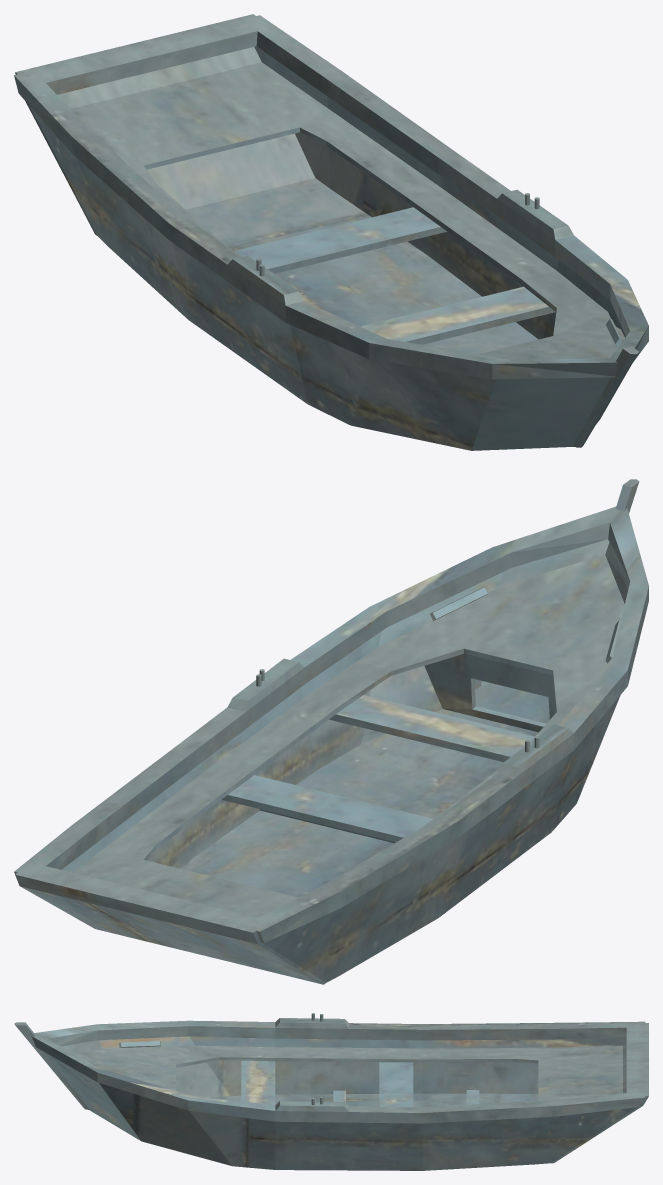
Rendered from boat8.dae.
3 renders of one model, top to bottom at view 1: azimuth 30°, elevation 25°; view 2: azimuth 150°, elevation 25°; view 3: azimuth 270°, elevation 25°, orthographic. The views are drawn at different scales.
Parts seen in each view (by area): view 1: boat; view 2: boat; view 3: boat.
Part boxes in pixels (x1,y1,x2,y2): boat: [14, 14, 648, 450]; boat: [14, 479, 648, 984]; boat: [14, 1013, 648, 1170].
Bounding box in the file's own units: 3.28 × 9.89 × 1.87.
1 material, 1 textured.
